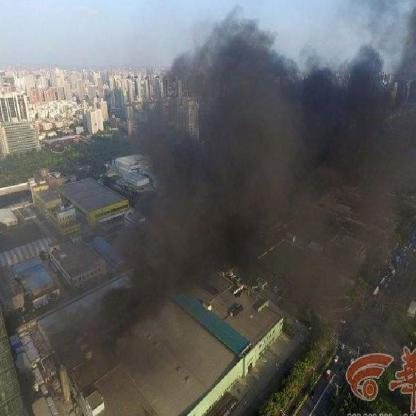smoke: (172, 189, 342, 290), (148, 22, 228, 190), (232, 37, 321, 188), (322, 55, 414, 180), (106, 193, 170, 326)
